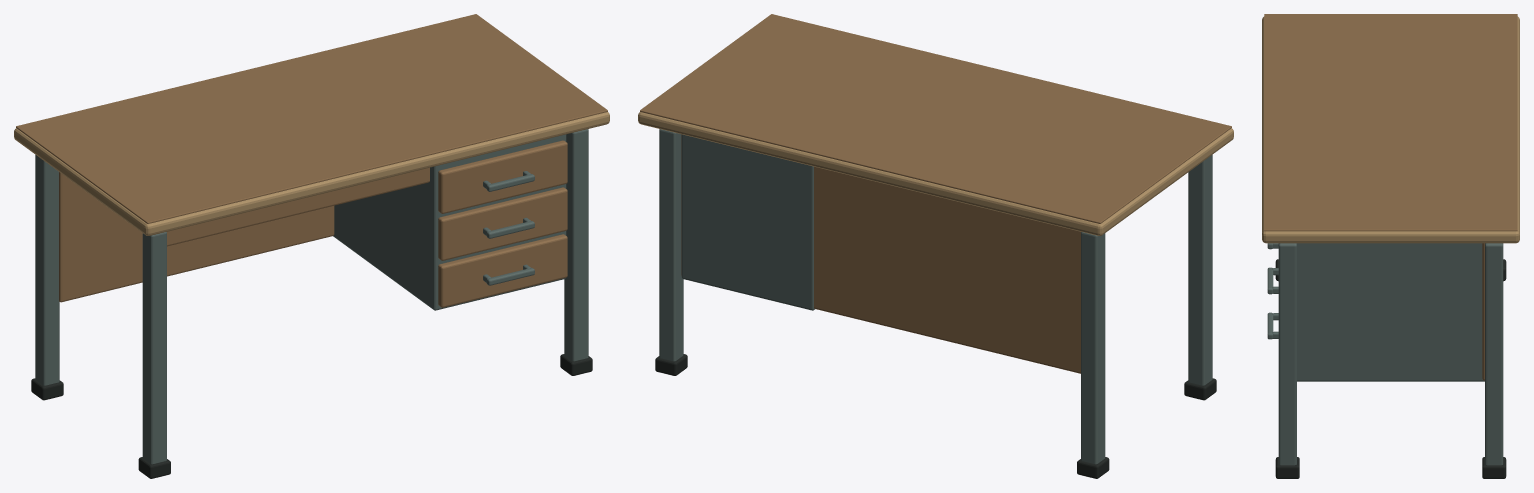
The model's file is teacher-desk.fbx.
The picture shows the model from 3 angles, left to right: view 1: azimuth 30°, elevation 25°; view 2: azimuth 150°, elevation 25°; view 3: azimuth 270°, elevation 25°; orthographic projection. The views are drawn at different scales.
Visible parts, largest first — view 1: Teacher writing surface, Rear modesty panel, Drawer cabinet, Teacher desktop rim, Teacher desk leg, Drawer front.001, Drawer front, Drawer front.002, Teacher desk leg.001, Teacher desk leg.002, Knee-space apron; view 2: Teacher writing surface, Rear modesty panel, Drawer cabinet, Teacher desktop rim, Teacher desk leg.001, Teacher desk leg, Teacher desk leg.003; view 3: Teacher writing surface, Drawer cabinet, Teacher desktop rim, Teacher desk leg.002, Teacher desk leg.003, Rear modesty panel, Teacher desk foot.002, Teacher desk foot.003.
Part boxes in pixels (x1,y1,x2,y2): Teacher writing surface: (16, 14, 607, 223); Rear modesty panel: (59, 172, 334, 302); Drawer cabinet: (333, 134, 566, 310); Teacher desktop rim: (14, 112, 609, 235); Teacher desk leg: (142, 232, 166, 464); Drawer front.001: (438, 187, 567, 260); Drawer front: (438, 234, 567, 307); Drawer front.002: (438, 140, 567, 213); Teacher desk leg.001: (35, 155, 59, 385); Teacher desk leg.002: (564, 129, 588, 361); Knee-space apron: (167, 167, 429, 246); Teacher writing surface: (640, 14, 1231, 223); Rear modesty panel: (681, 134, 1080, 373); Drawer cabinet: (681, 134, 814, 310); Teacher desktop rim: (638, 112, 1233, 235); Teacher desk leg.001: (1081, 232, 1105, 464); Teacher desk leg: (1188, 155, 1212, 385); Teacher desk leg.003: (659, 129, 683, 361); Teacher writing surface: (1264, 14, 1517, 231); Drawer cabinet: (1297, 243, 1484, 381); Teacher desktop rim: (1262, 16, 1519, 243); Teacher desk leg.002: (1278, 243, 1296, 465); Teacher desk leg.003: (1485, 243, 1503, 465); Rear modesty panel: (1482, 243, 1484, 380); Teacher desk foot.002: (1275, 457, 1299, 478); Teacher desk foot.003: (1482, 457, 1506, 478).
Bounding box in the file's own units: 1.4 × 0.76 × 0.7.
